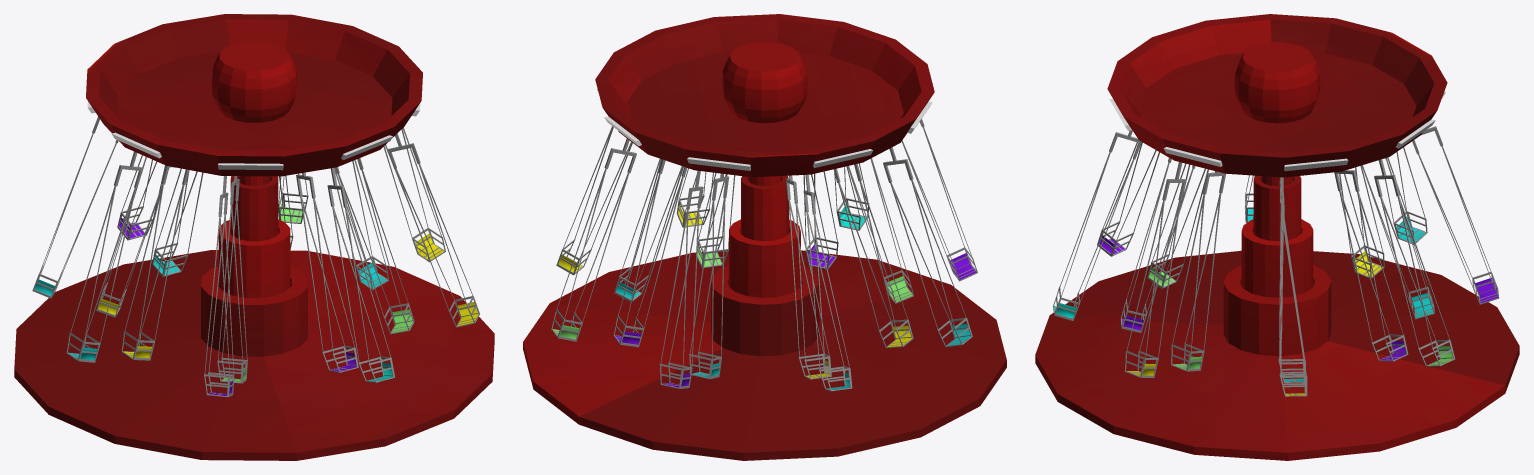
Rendered from funfair2.fbx.
3 views of the same model, side by side, from view 1: azimuth 30°, elevation 25°; view 2: azimuth 150°, elevation 25°; view 3: azimuth 270°, elevation 25° (orthographic).
Visible parts, largest first — view 1: funfair_m6.001, funfair_m6; view 2: funfair_m6.001, funfair_m6; view 3: funfair_m6.001, funfair_m6.
Part boxes in pixels (box(x1,y1,x2,y2)): funfair_m6.001: box(14, 14, 494, 460); funfair_m6: box(32, 116, 479, 397); funfair_m6.001: box(523, 14, 1006, 460); funfair_m6: box(551, 119, 977, 391); funfair_m6.001: box(1035, 14, 1519, 460); funfair_m6: box(1053, 126, 1499, 396).
Size of the model in its own units: 735 by 505 by 735.
